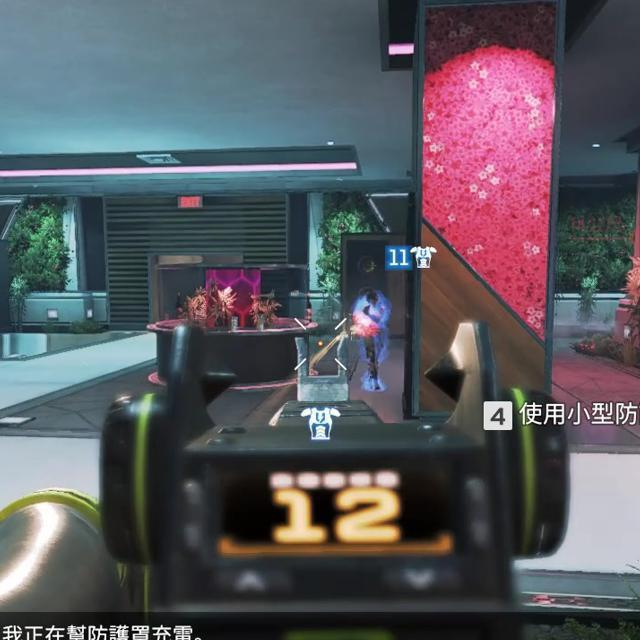avatar: (353, 290, 391, 393)
